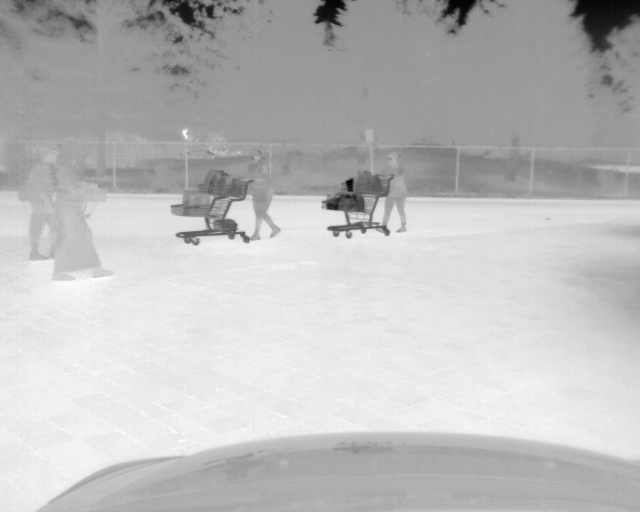people: (52, 143, 113, 282), (18, 147, 54, 262), (242, 149, 282, 242), (380, 149, 409, 235)
